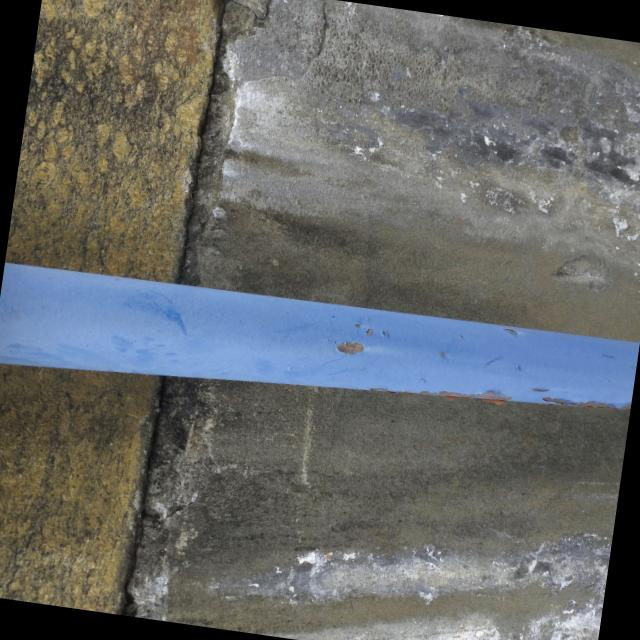gas: (0, 251, 640, 451)
